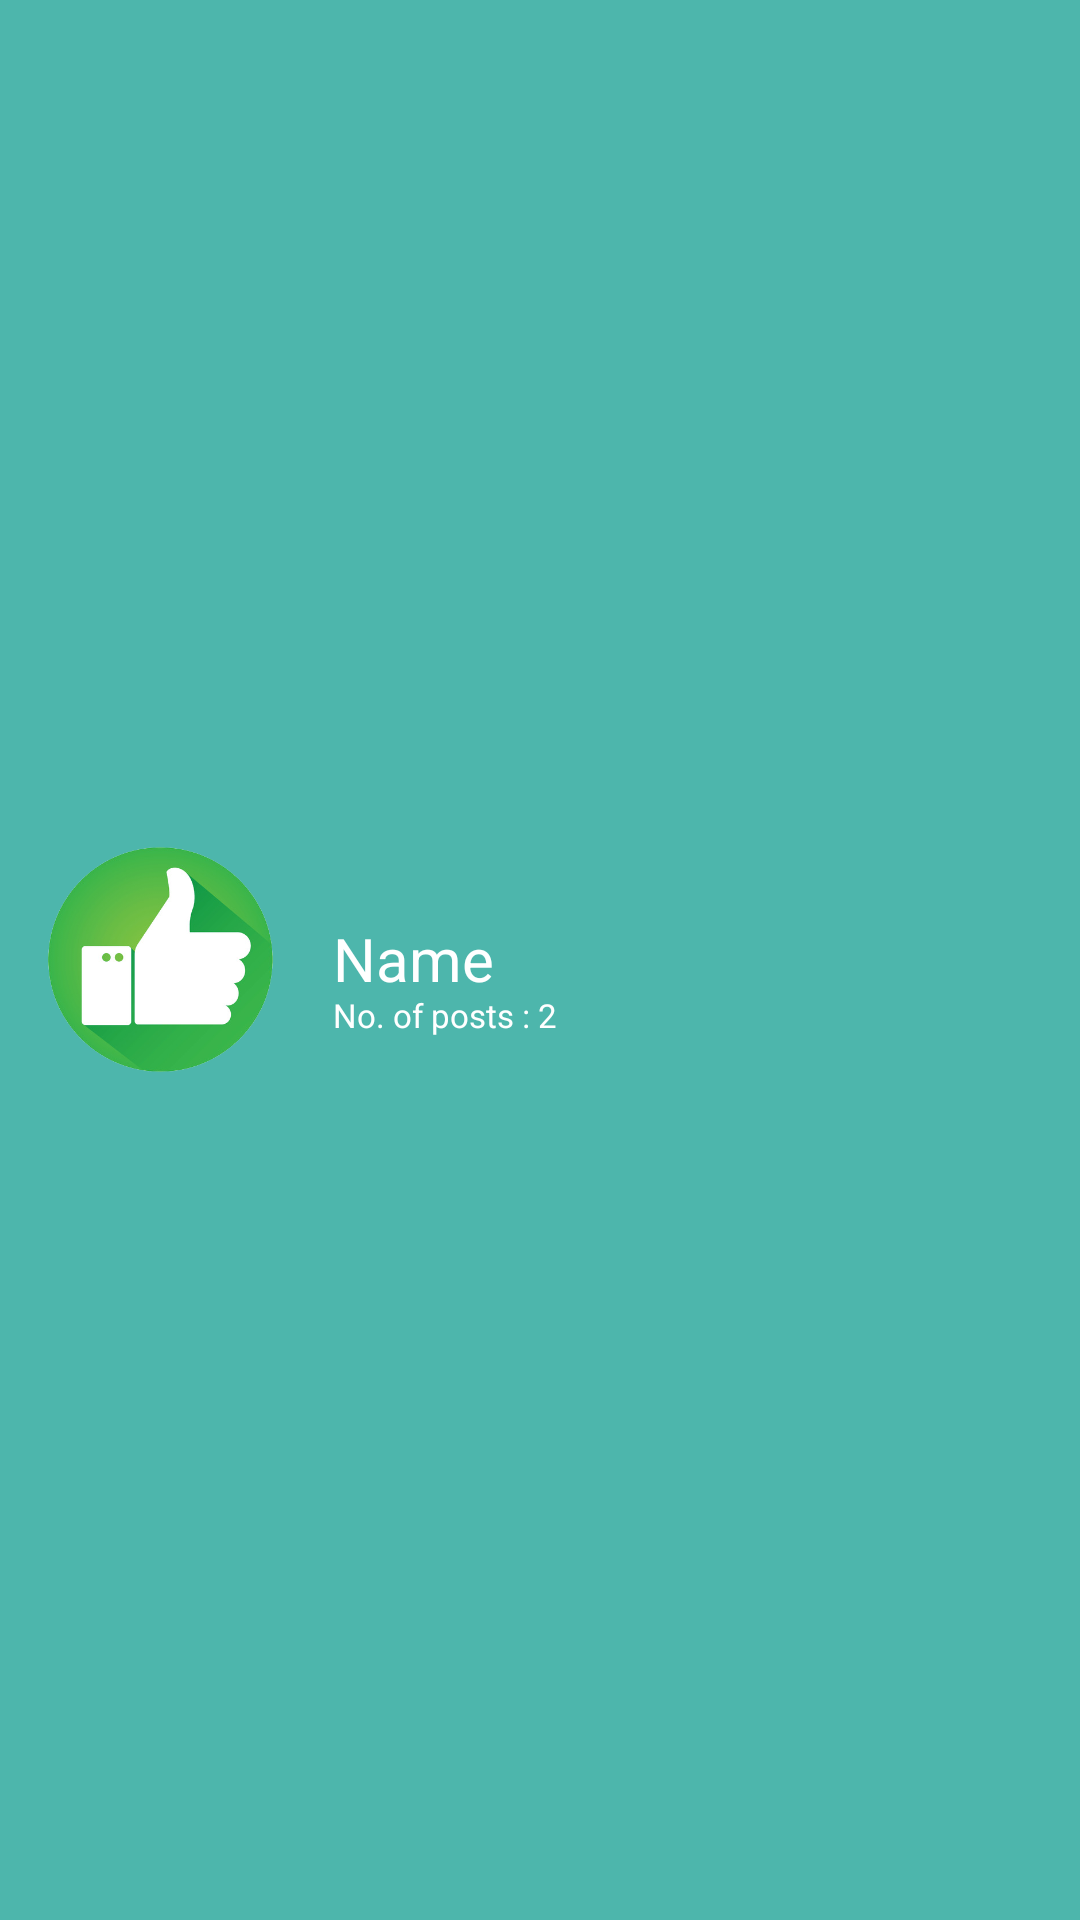

Named icons in this screenshot (1080x1920) and their bounding boxes, box(x1, y1, x2, y2):
like: box(48, 847, 273, 1072)
